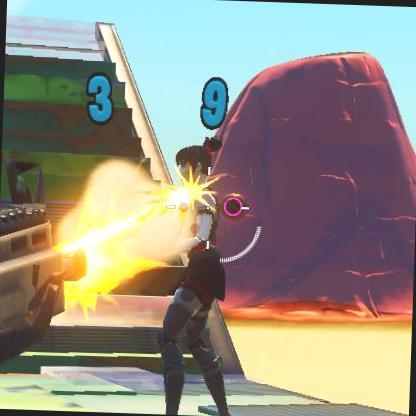person: (154, 240, 251, 416), (158, 332, 190, 414)
